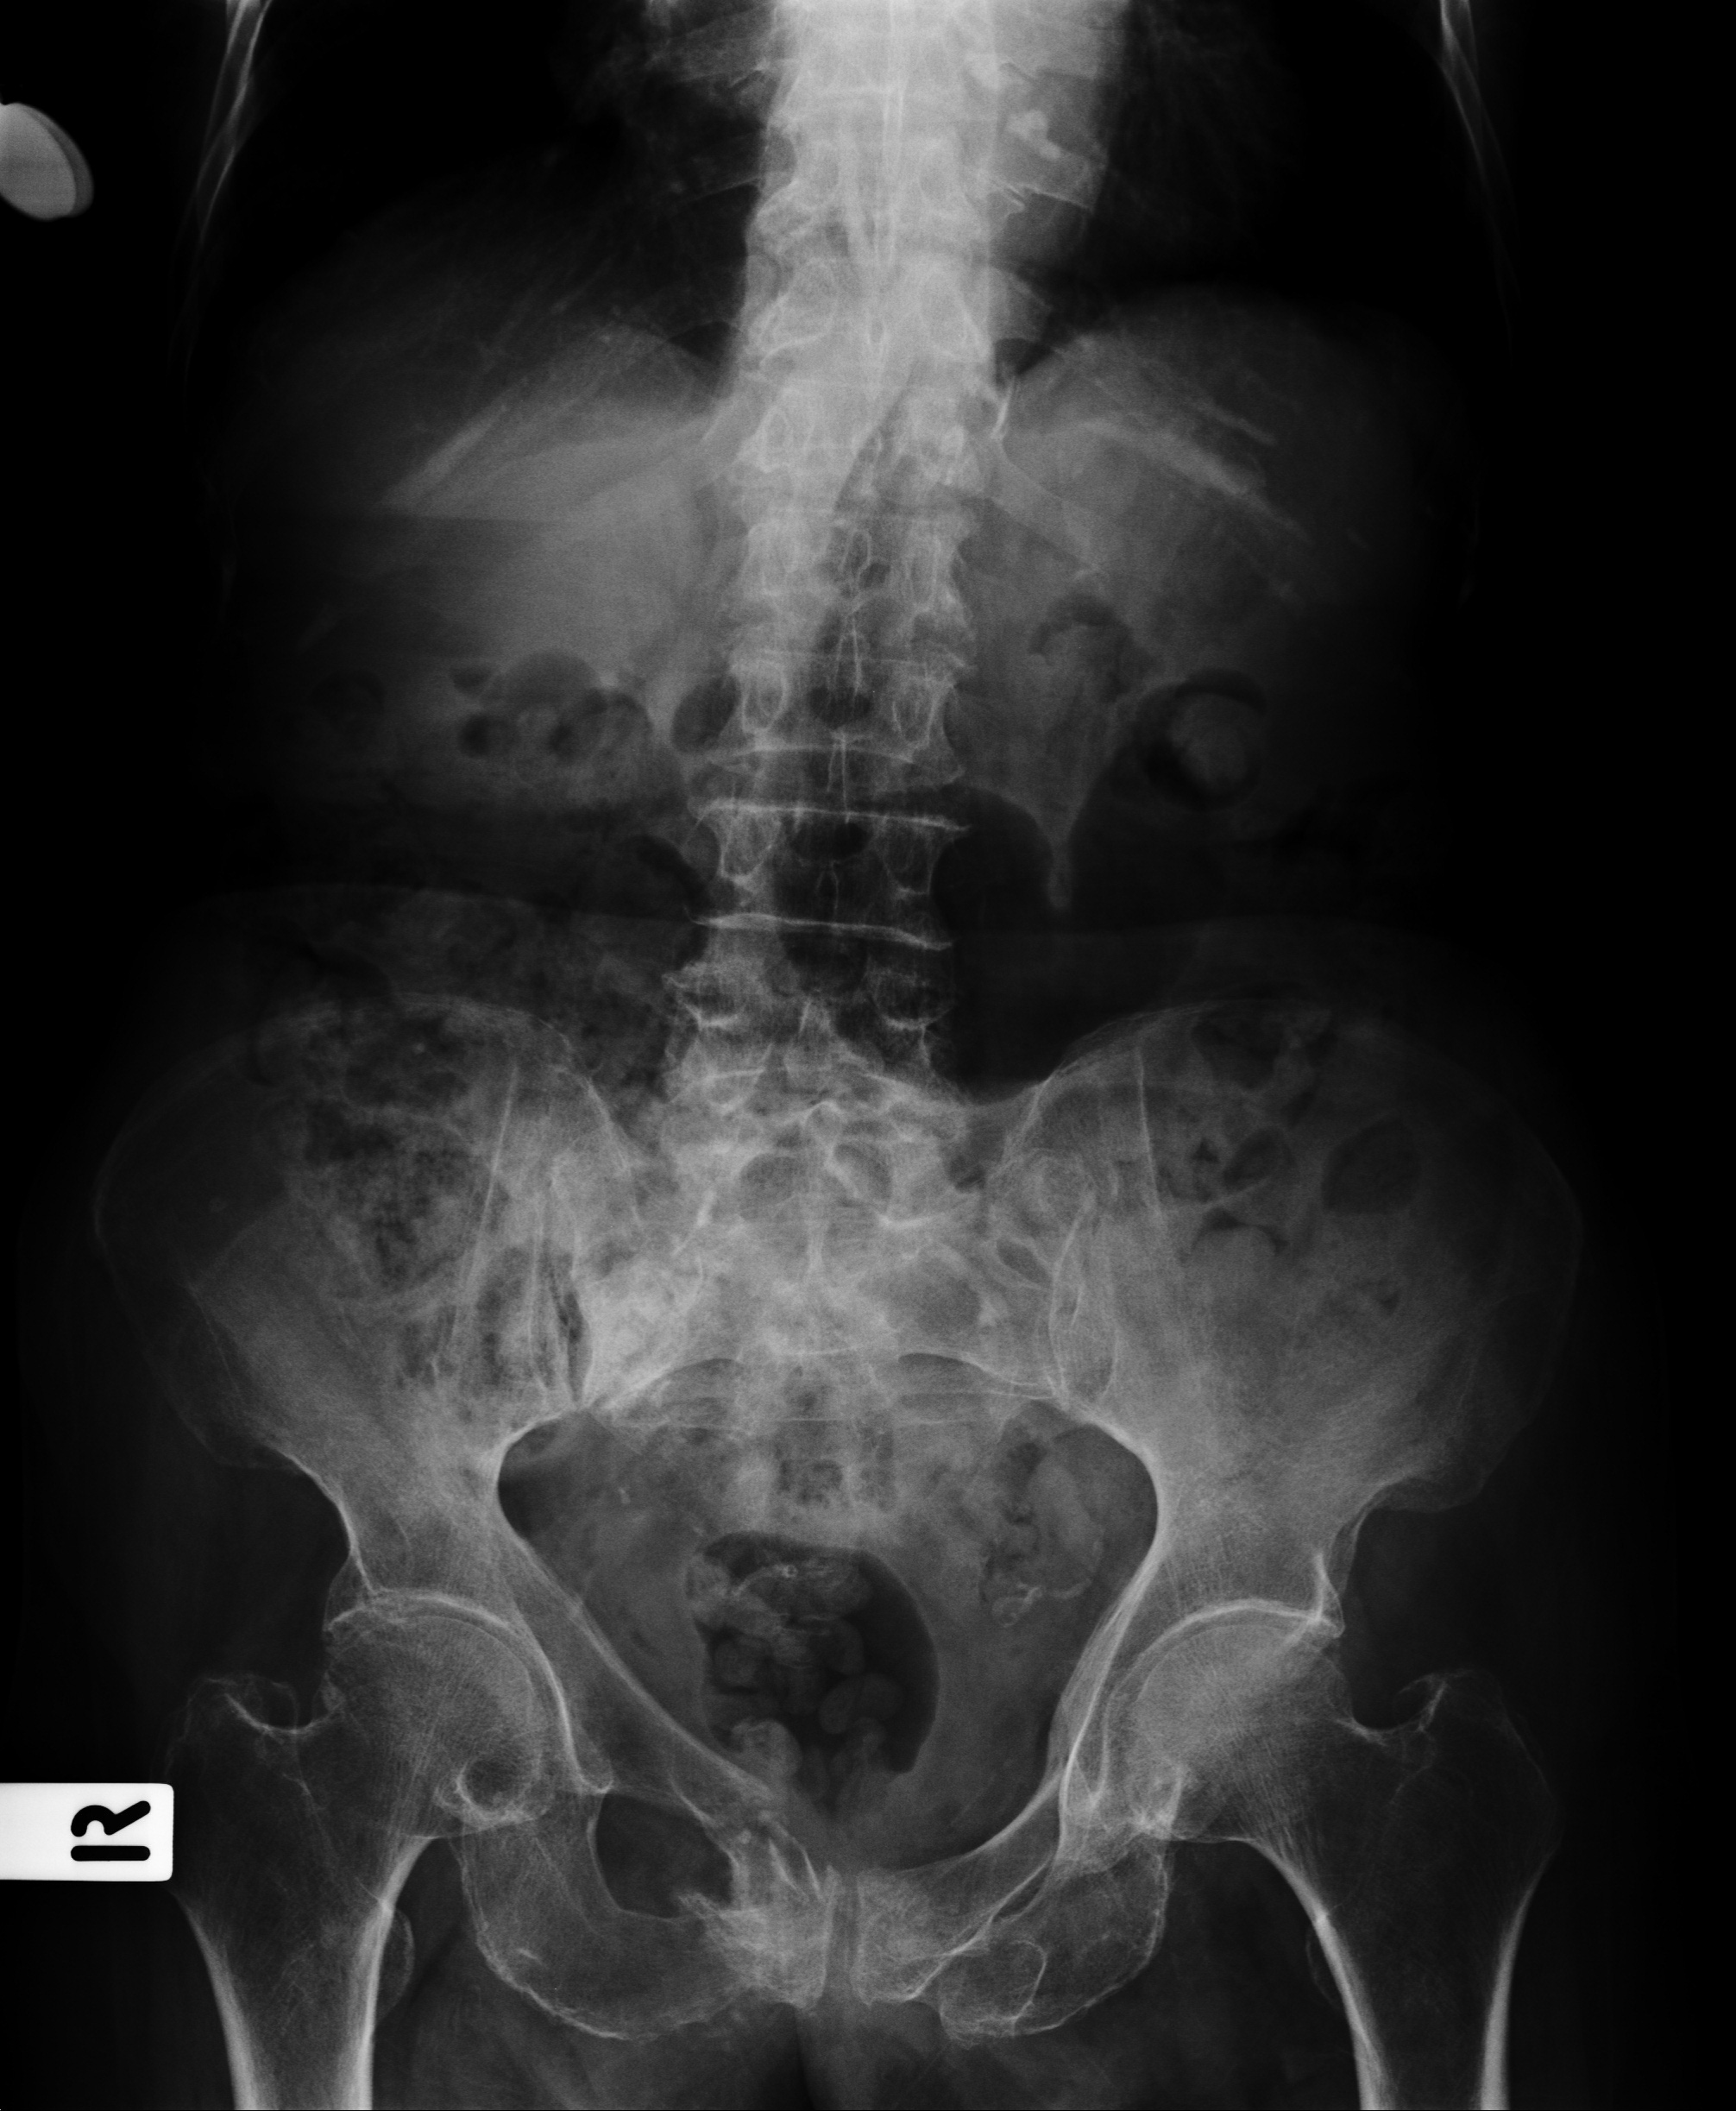lumbar scoliosis: (687, 7, 1017, 1168)
